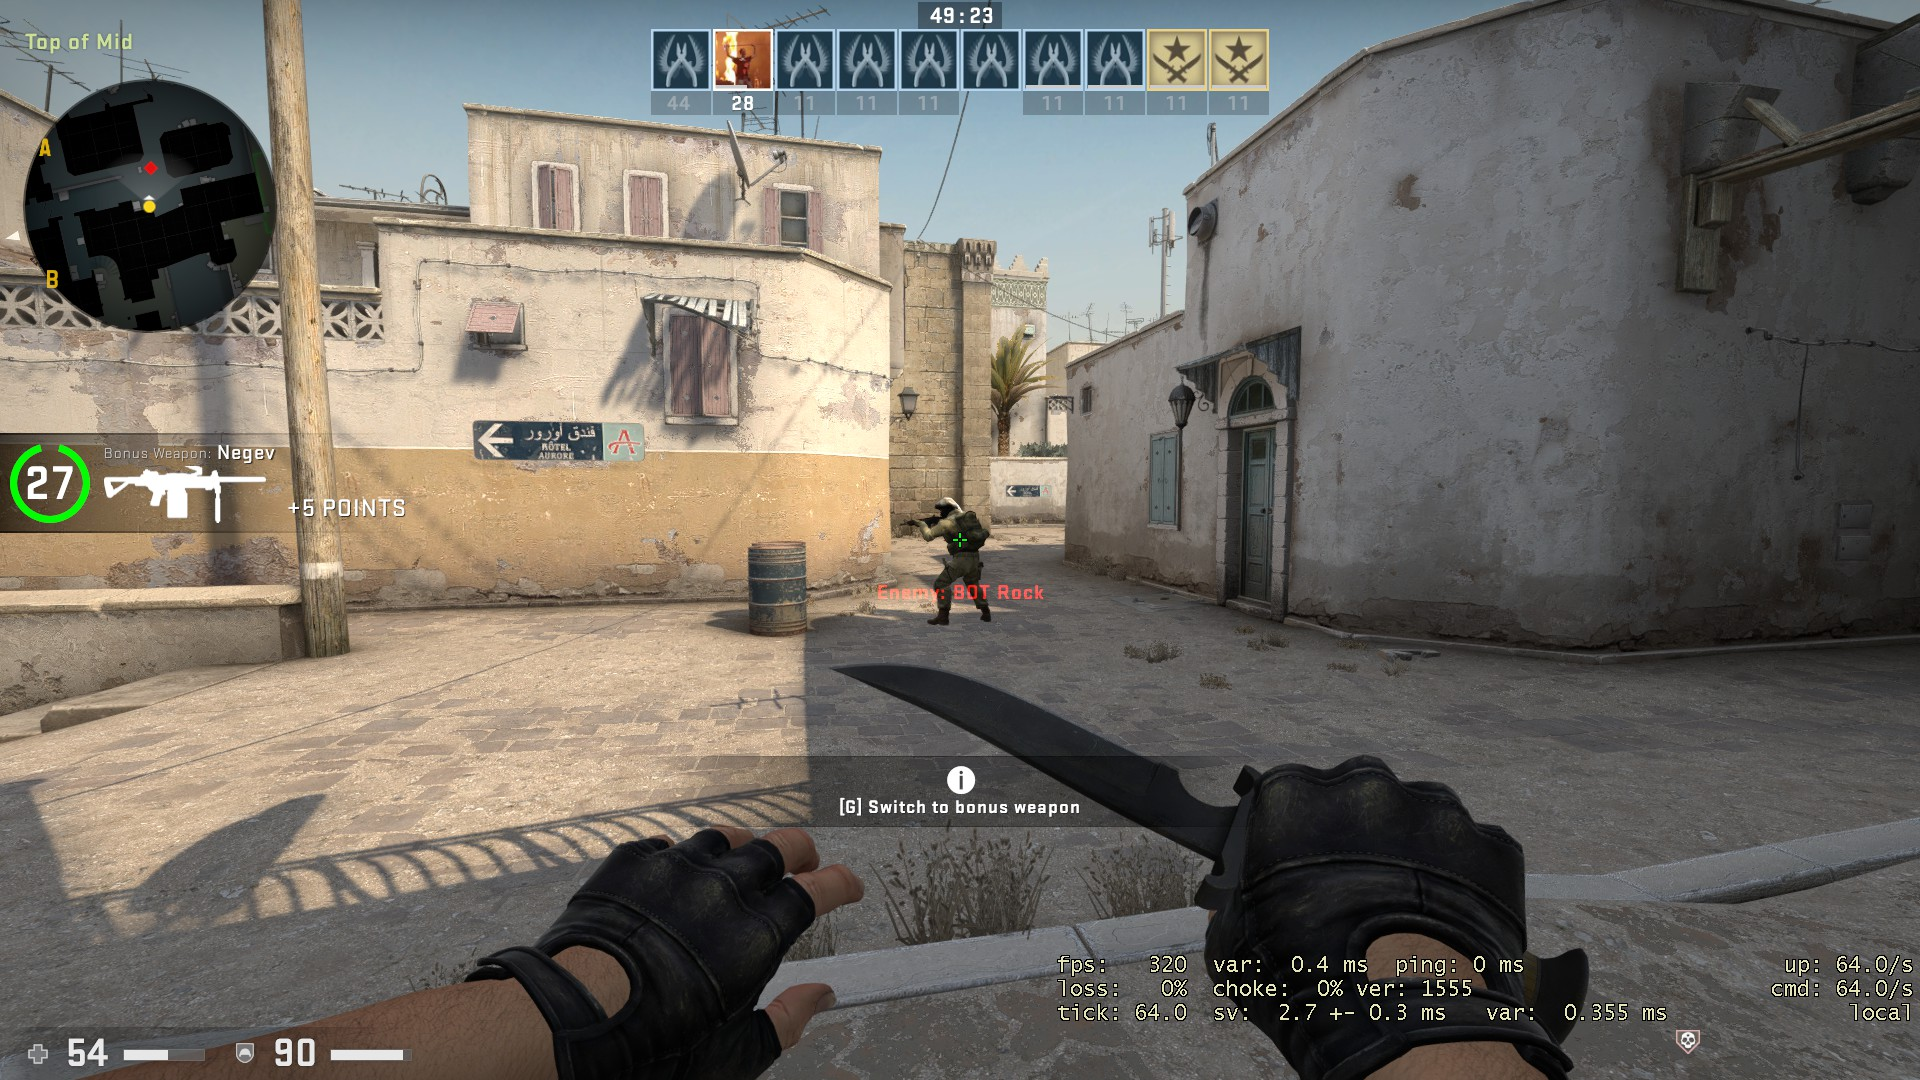player: (895, 492, 1001, 630)
